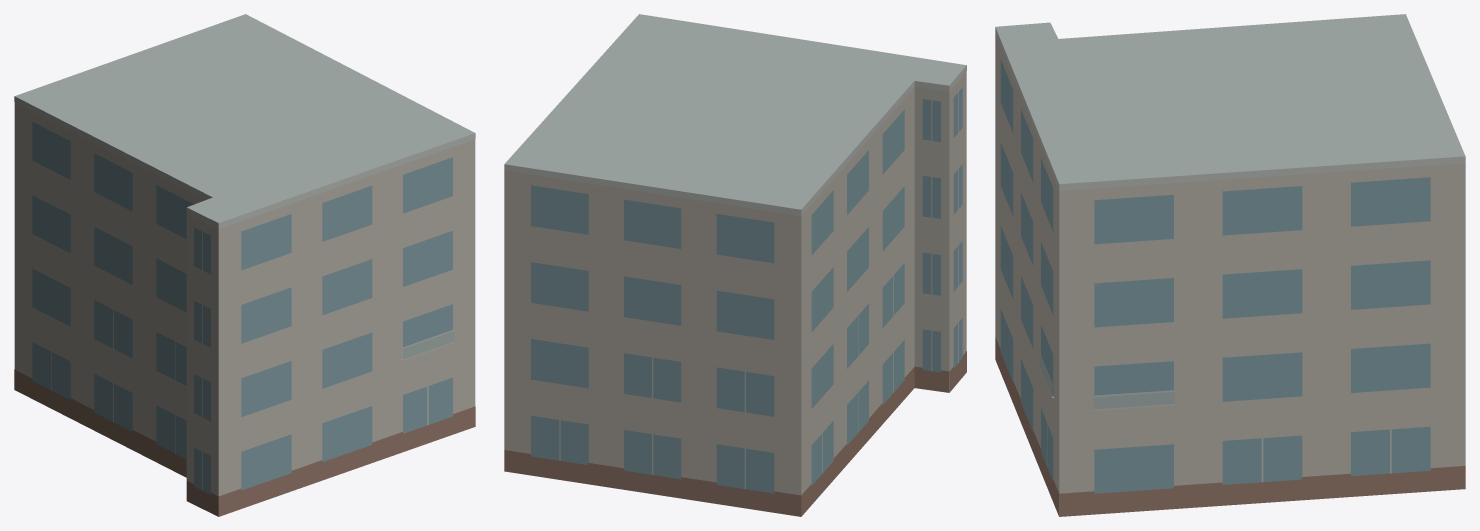
The model's file is survey-upis-32533786.glb.
3 views of the same model, side by side, from view 1: azimuth 30°, elevation 25°; view 2: azimuth 150°, elevation 25°; view 3: azimuth 270°, elevation 25° (orthographic). The views are drawn at different scales.
Parts seen in each view (by area): view 1: survey-upis-32533786.tmp; view 2: survey-upis-32533786.tmp; view 3: survey-upis-32533786.tmp.
Part boxes in pixels (bbox=[...]): survey-upis-32533786.tmp: bbox=[14, 14, 475, 516]; survey-upis-32533786.tmp: bbox=[504, 14, 966, 516]; survey-upis-32533786.tmp: bbox=[995, 14, 1465, 516].
Bounding box in the file's own units: 13.21 × 12.03 × 15.42.
